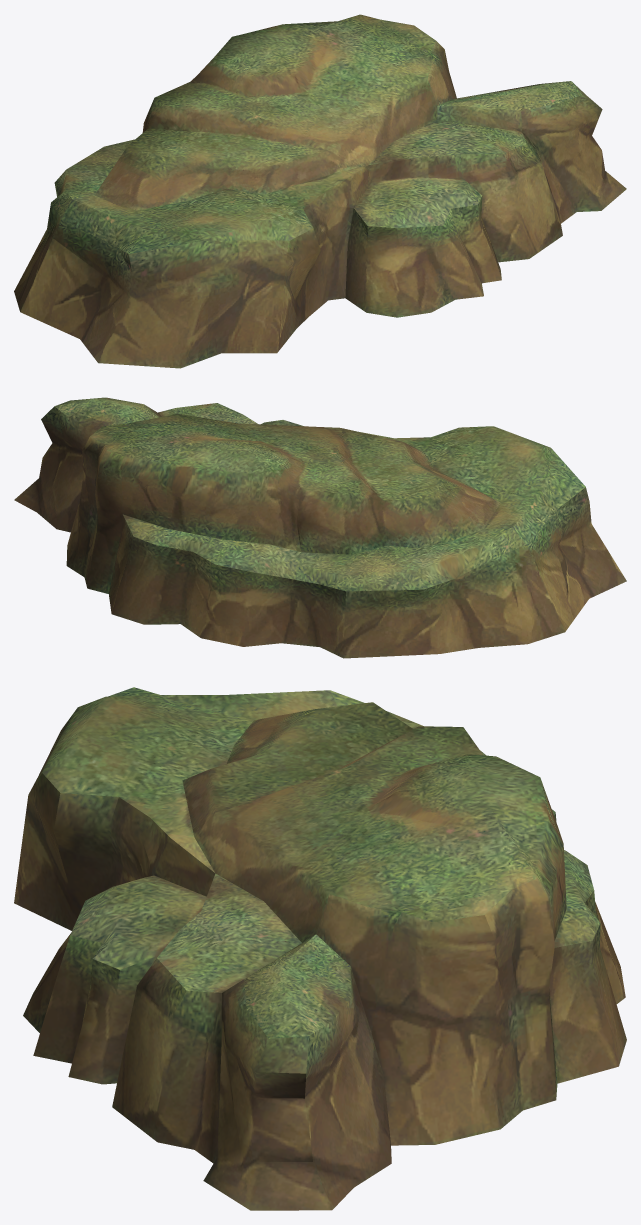
The model's file is stone_12.FBX.
3 views of the same model, one above another, from view 1: azimuth 30°, elevation 25°; view 2: azimuth 150°, elevation 25°; view 3: azimuth 270°, elevation 25° (orthographic). The views are drawn at different scales.
Parts seen in each view (by area): view 1: stone_12; view 2: stone_12; view 3: stone_12.
Part boxes in pixels (<box>): stone_12: <box>14,14,626,368</box>; stone_12: <box>14,397,626,658</box>; stone_12: <box>14,687,626,1210</box>.
Bounding box in the file's own units: 18.5 × 4.77 × 11.55.
